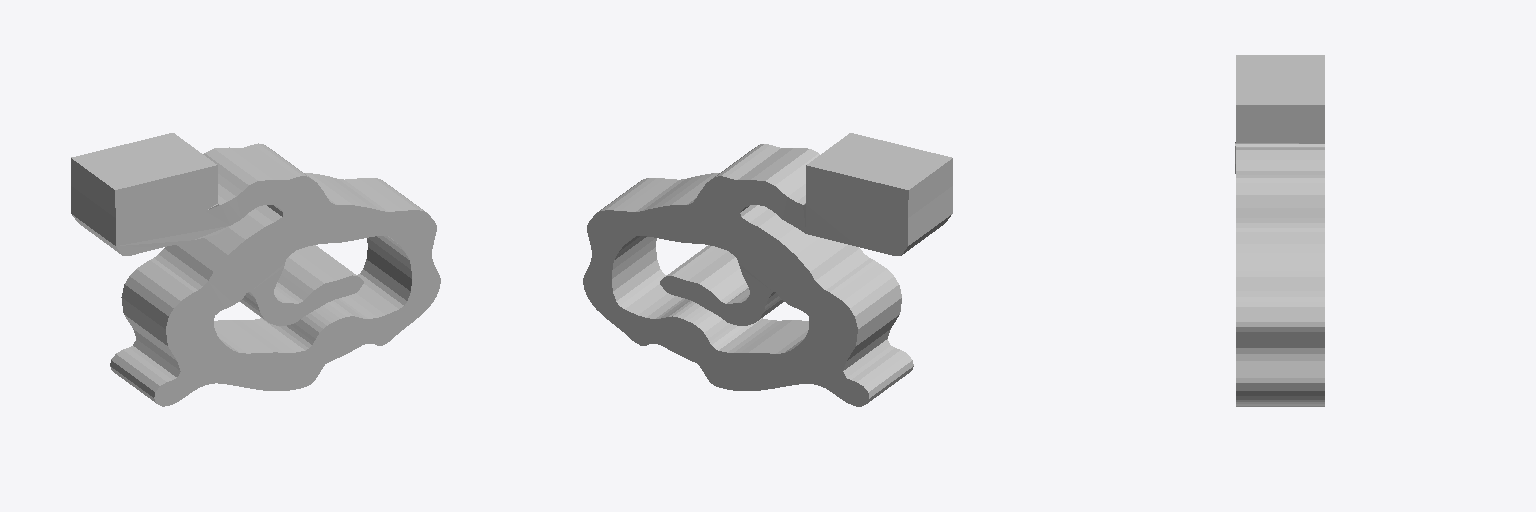
The picture shows the model from 3 angles: view 1: azimuth 30°, elevation 25°; view 2: azimuth 150°, elevation 25°; view 3: azimuth 270°, elevation 25°; orthographic projection.
Visible parts, largest first — view 1: World.MeshShape; view 2: World.MeshShape; view 3: World.MeshShape.
Boxes of the visible parts, box(x1,y1,x2,y2) form: World.MeshShape: box(71, 133, 440, 406); World.MeshShape: box(583, 133, 952, 406); World.MeshShape: box(1235, 55, 1324, 406).
Size of the model in its own units: 42.46 by 30.32 by 10.11.